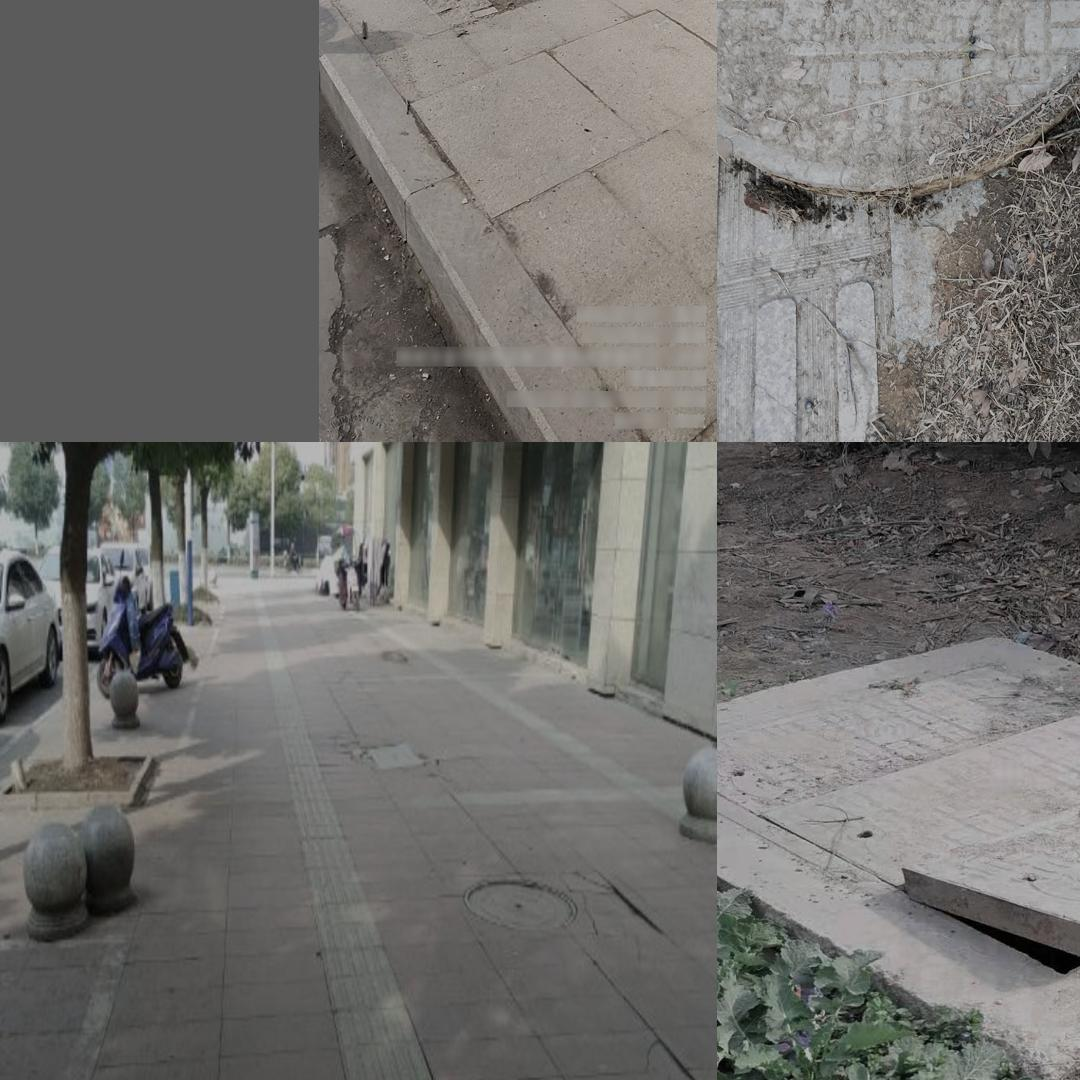good: (464, 878, 577, 925)
uncovered: (718, 647, 1080, 986), (719, 0, 1080, 218)
